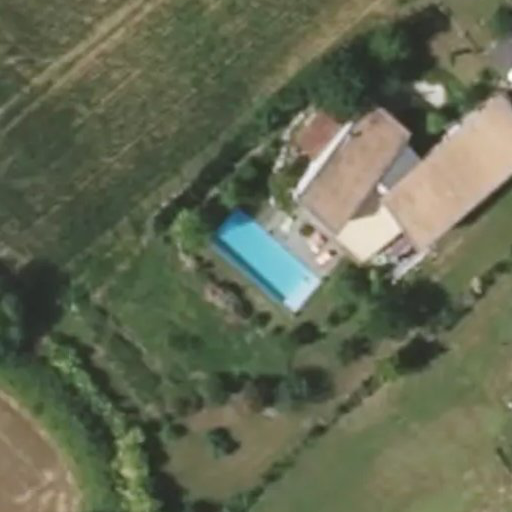pool: (200, 218, 311, 265)
